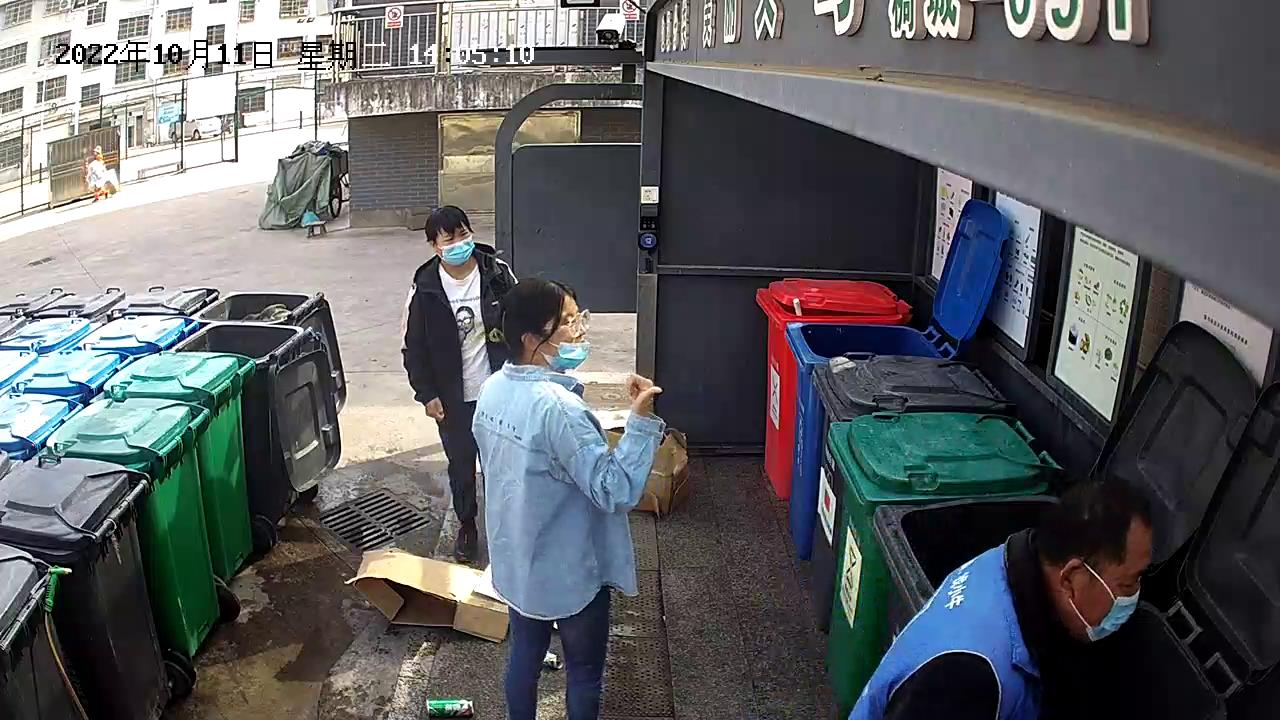lvzhipin: (423, 693, 476, 718)
person: (399, 203, 522, 564)
worker: (468, 274, 664, 720), (842, 473, 1156, 720)
zhizhipin: (342, 545, 512, 645)
